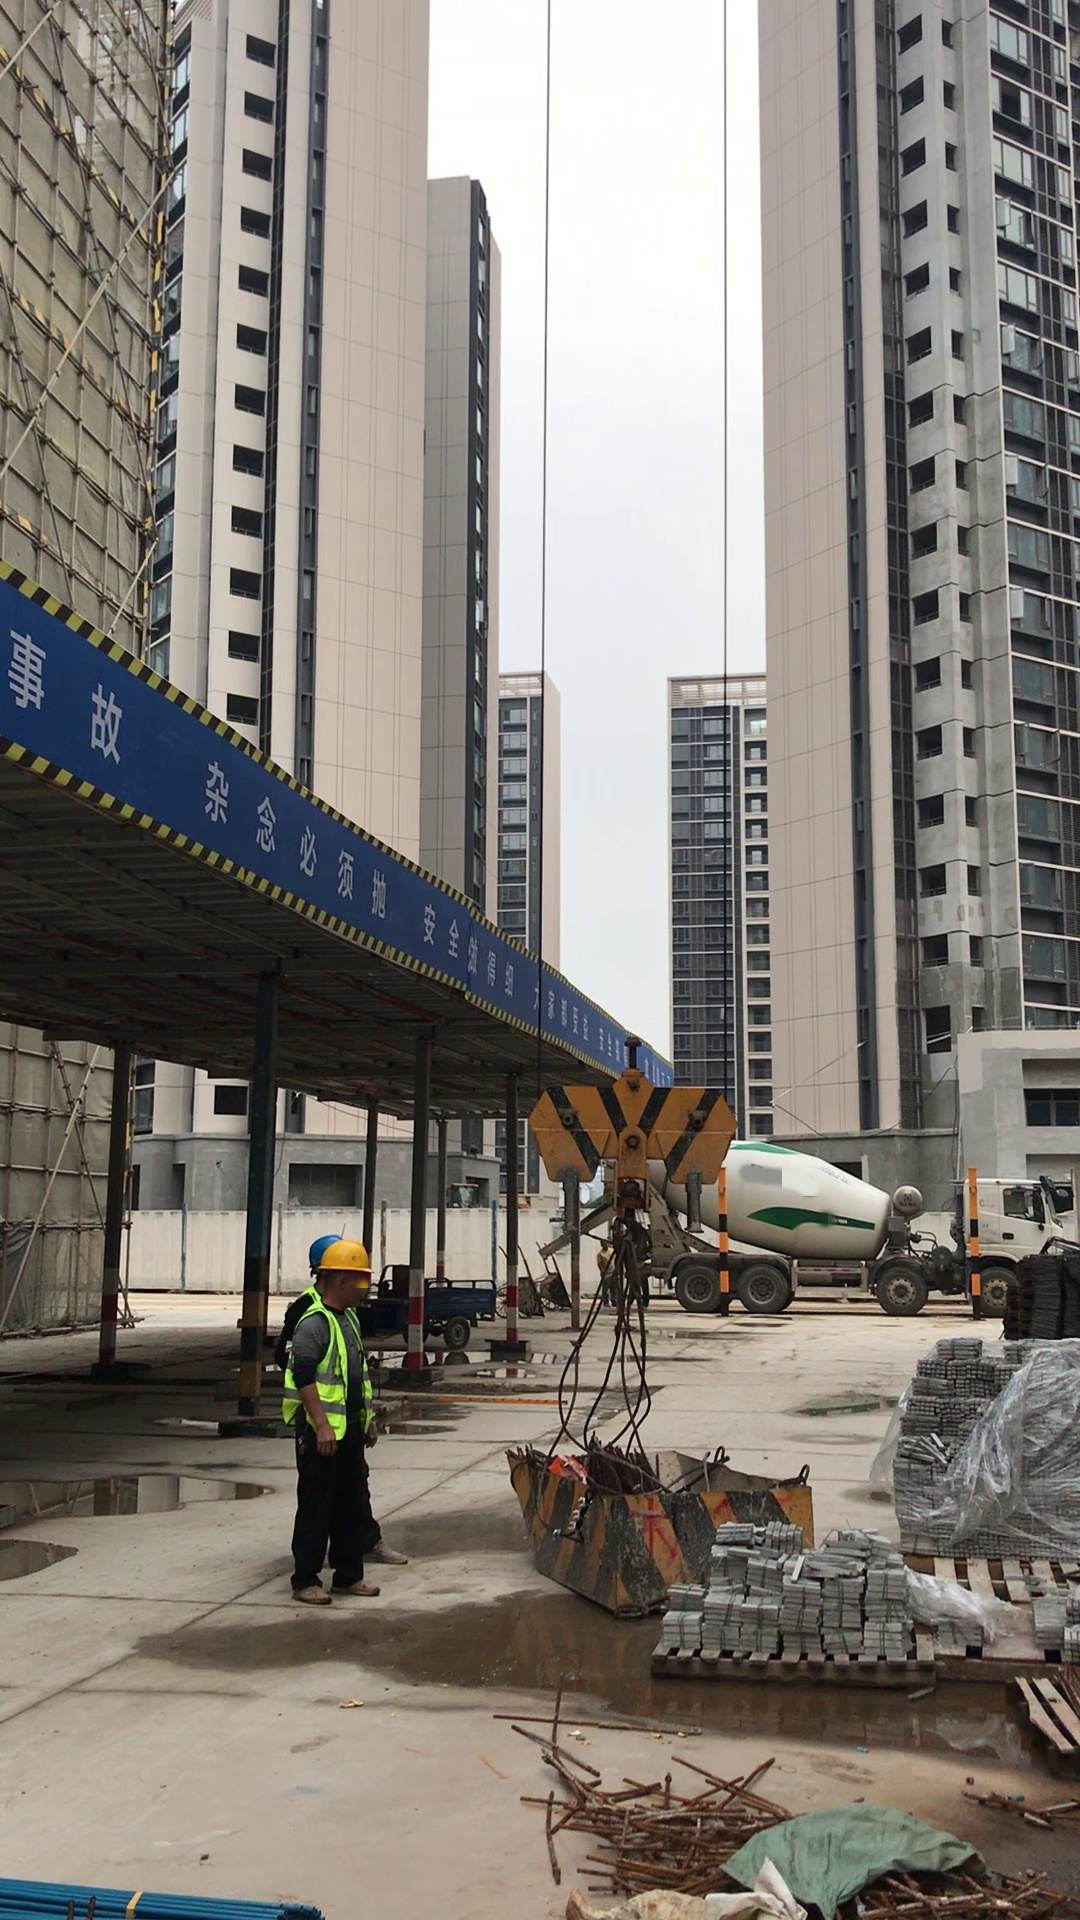helmet: (324, 1241, 384, 1279)
hook: (531, 1037, 749, 1223)
person: (291, 1234, 382, 1605)
slogan: (1, 579, 685, 1095)
vest: (302, 1301, 374, 1445)
